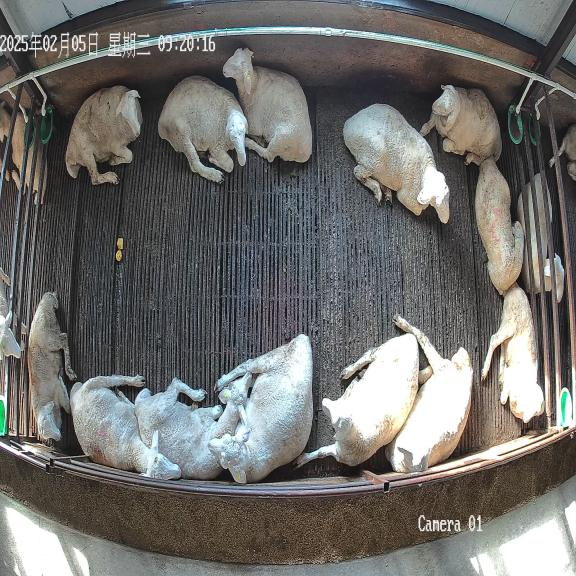lying: (297, 334, 419, 466), (208, 334, 313, 484), (385, 315, 473, 473), (135, 371, 253, 480), (343, 104, 449, 223), (70, 376, 181, 480), (223, 48, 312, 162), (158, 76, 248, 183), (481, 284, 544, 422), (65, 86, 142, 185), (28, 292, 76, 441), (475, 159, 524, 294), (420, 85, 502, 165)
